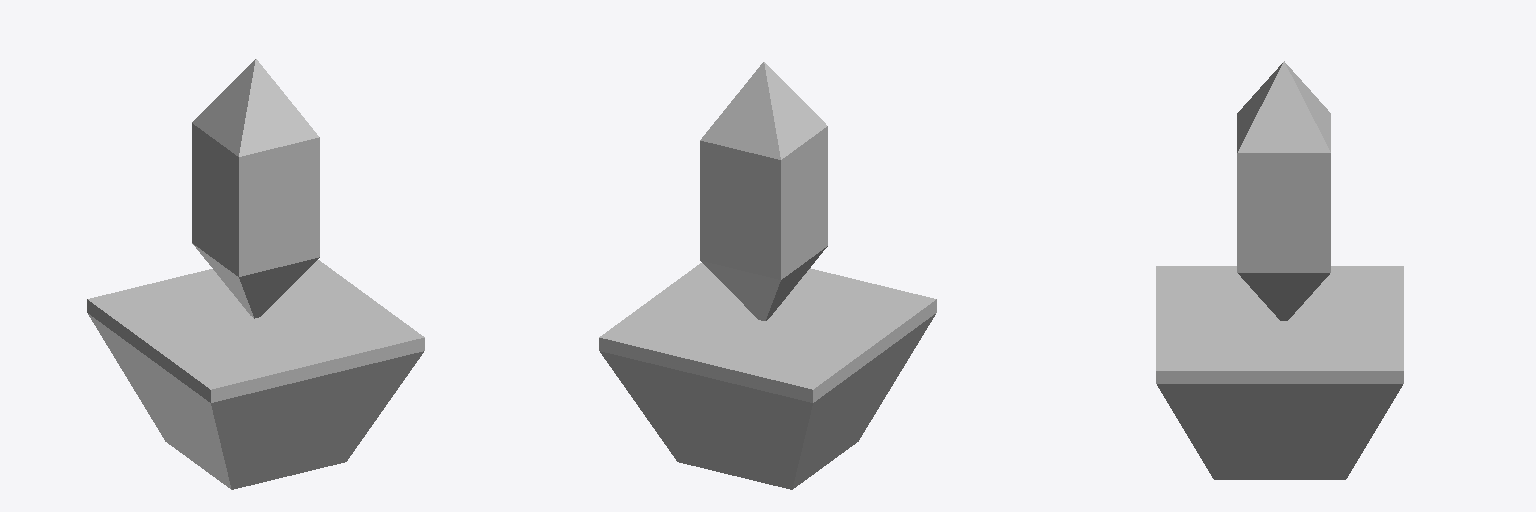
File: Ледяная башня 1.obj
3 renders of one model, left to right at view 1: azimuth 30°, elevation 25°; view 2: azimuth 150°, elevation 25°; view 3: azimuth 270°, elevation 25°, orthographic.
Visible parts, largest first — view 1: Куб_Куб.001, Конус.001; view 2: Куб_Куб.001, Конус.001; view 3: Куб_Куб.001, Конус.001.
Boxes of the visible parts, x1=… form: Куб_Куб.001: x1=87, y1=260, x2=424, y2=489; Конус.001: x1=192, y1=59, x2=319, y2=318; Куб_Куб.001: x1=599, y1=263, x2=936, y2=489; Конус.001: x1=700, y1=62, x2=827, y2=320; Куб_Куб.001: x1=1156, y1=266, x2=1403, y2=479; Конус.001: x1=1237, y1=61, x2=1330, y2=320.
Size of the model in its own units: 3.73 by 6.53 by 3.73.